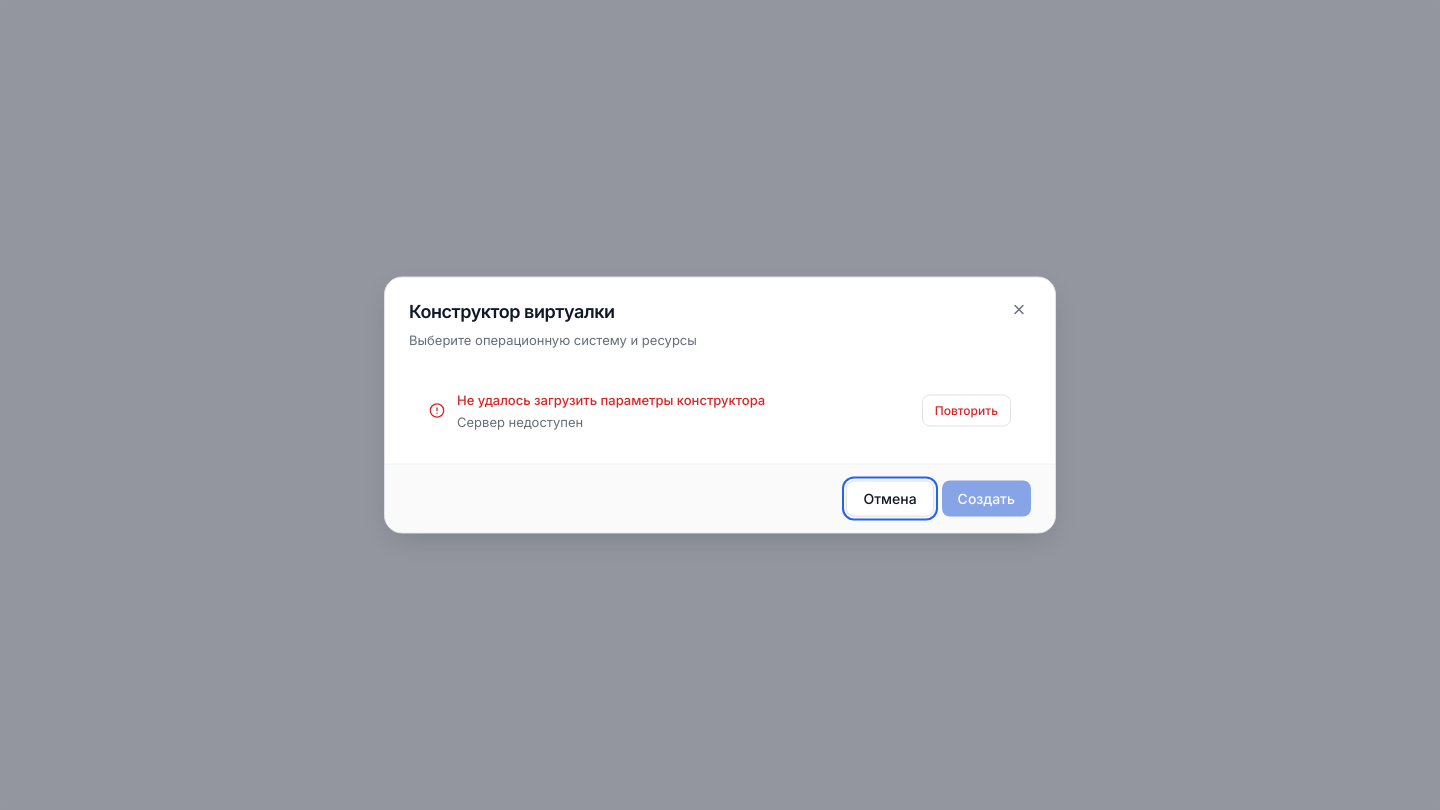
it: VmBuilderDialog › ошибка загрузки настроек: текст ошибки и «Повторить» вместо вечной «Загрузки…»; повтор показывает форму
Check: the text "Не удалось загрузить параметры конструктора" is shown, box [457, 390, 765, 410]
Check: the text "Сервер недоступен" is shown, box [457, 414, 583, 430]
Click the button "Повторить". click: (966, 410)
box: [922, 394, 1011, 426]
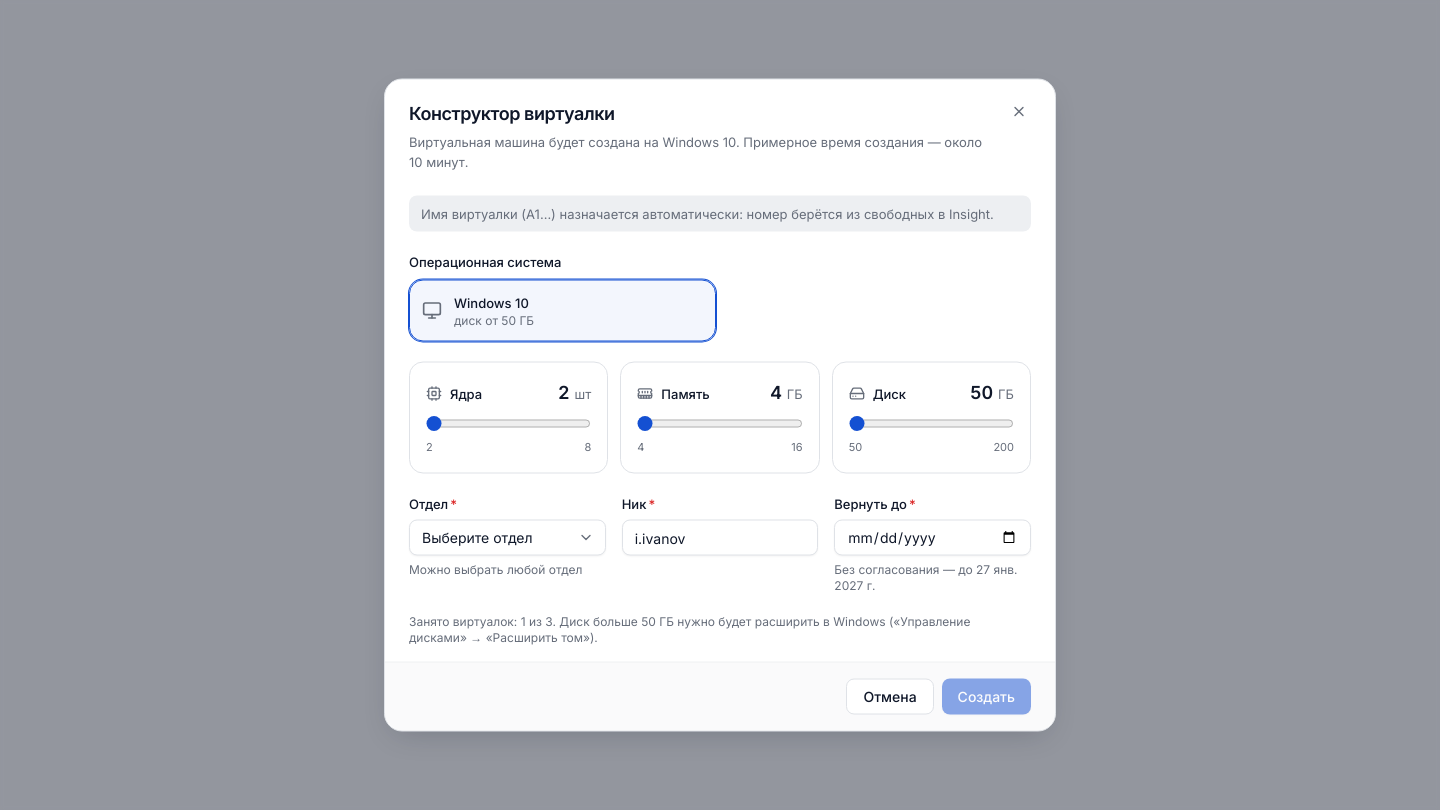
Check: the text "назначается автоматически" is shown, box [421, 206, 994, 222]
Check: the message "Не удалось загрузить параметры конструктора Сервер недоступен Повторить" is gone
